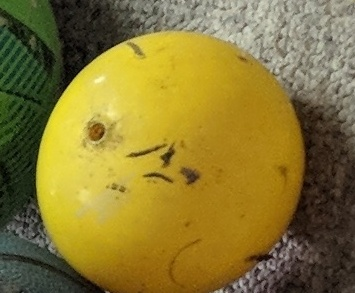ball: (37, 29, 308, 292)
